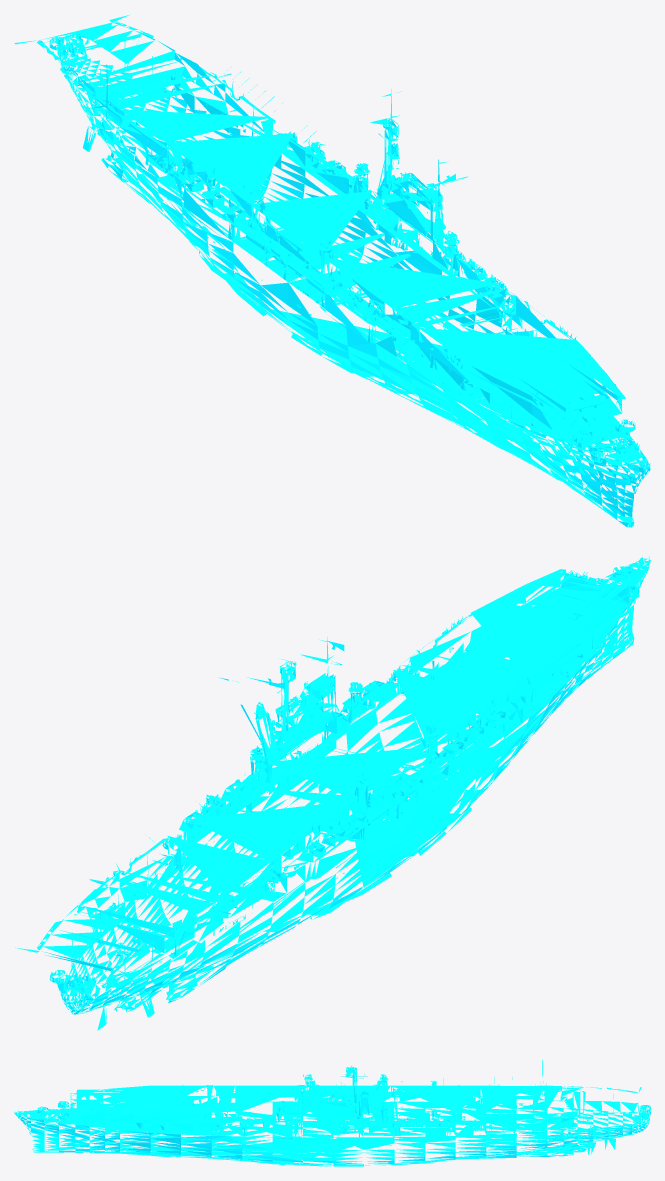
The model's file is Max_Immelmann.glb.
3 renders of one model, top to bottom at view 1: azimuth 30°, elevation 25°; view 2: azimuth 150°, elevation 25°; view 3: azimuth 270°, elevation 25°, orthographic. The views are drawn at different scales.
Size of the model in its own units: 3 by 3.26 by 18.53.
